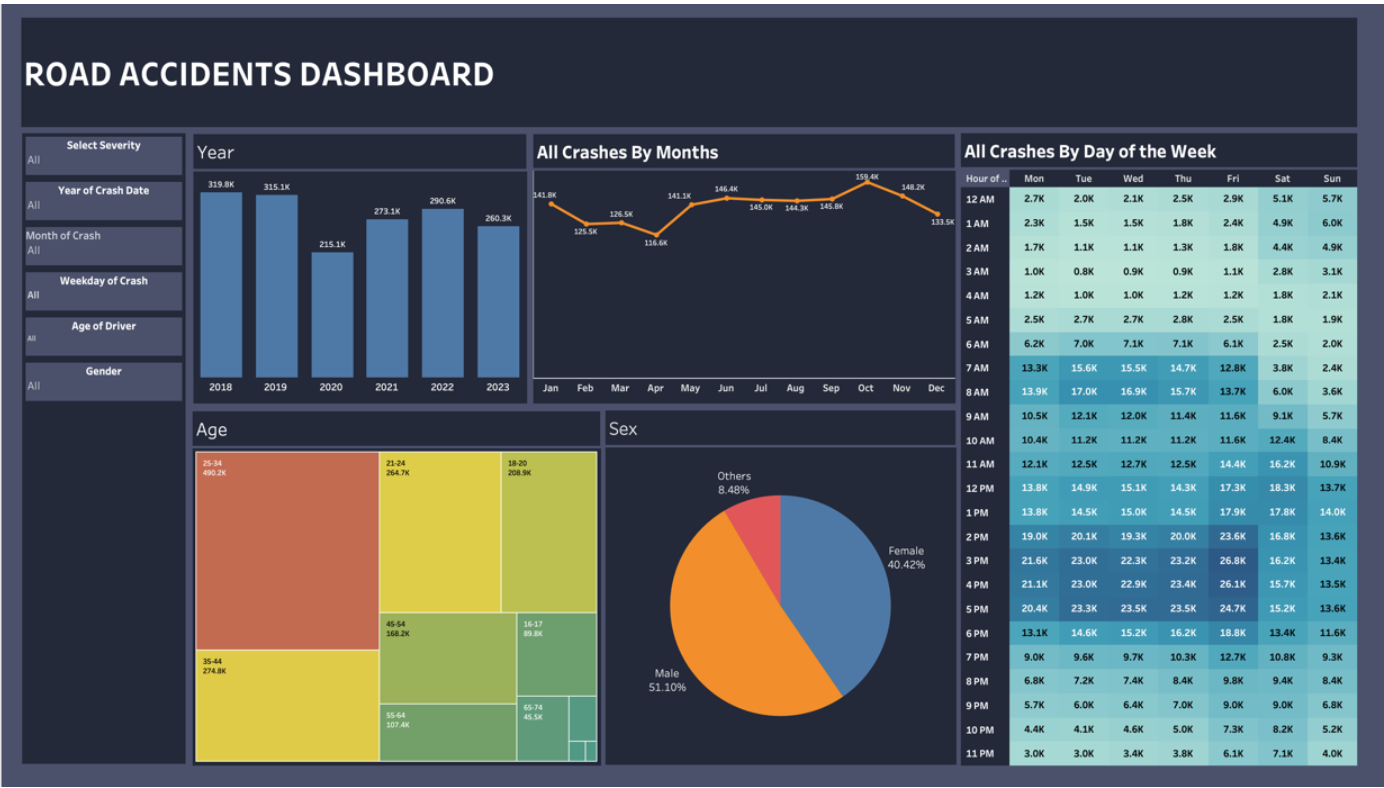

The page's visual inventory and layout, read from the dashboard file:
{"tool":"tableau","page":{"name":"Dashboard 2","canvas":[1600,900],"ordinal":1},"visuals":[{"type":"text","box":[30,15,1537,126]},{"type":"parameter","param":"[Parameters].[Parameter 2]","box":[31,148,188,56]},{"type":"worksheet","title":"Day","mark":"Square","rows":["Crash Time"],"cols":["Crash Date"],"box":[1111,148,456,728]},{"type":"worksheet","title":"Year","mark":"Bar","rows":["Calculation_2078129783879512064"],"cols":["Calculation_792915040177328128"],"box":[228,149,383,310]},{"type":"worksheet","title":"Month","mark":"Line","rows":["Calculation_2078129783879512064"],"cols":["Crash Date"],"box":[619,149,485,310]},{"type":"filter","title":"Month","param":"[federated.0sejc3v1lh04a01dlrg191ujw808].[Year of Crash Date Set]","box":[31,204,188,61]},{"type":"filter","title":"Year","param":"[federated.0sejc3v1lh04a01dlrg191ujw808].[mn:Crash Date:ok]","box":[31,265,188,61]},{"type":"filter","title":"Day","param":"[federated.0sejc3v1lh04a01dlrg191ujw808].[wd:Crash Date:ok]","box":[31,326,188,61]},{"type":"filter","title":"Age","param":"[federated.0sejc3v1lh04a01dlrg191ujw808].[Age of Driver - Youngest Known Set]","box":[31,387,188,61]},{"type":"filter","title":"Sex","param":"[federated.0sejc3v1lh04a01dlrg191ujw808].[Sex (group)]","box":[31,448,188,61]},{"type":"worksheet","title":"Sex","mark":"Pie","box":[702,467,403,407]},{"type":"worksheet","title":"Age","mark":"Automatic","box":[227,468,469,407]},{"type":"filter","title":"Year","param":"[federated.0sejc3v1lh04a01dlrg191ujw808].[none:City Town Name:nk]","box":[31,509,188,61]}]}

Visuals, with their boxes in screenshot pixels (x1, y1, x2, y2), scaled from the page's 1600x900 canvas onto the 1384x788 screenshot:
text: (x1=26, y1=13, x2=1355, y2=123)
parameter: (x1=27, y1=130, x2=189, y2=179)
"Day" worksheet (Square marks): (x1=961, y1=130, x2=1355, y2=767)
"Year" worksheet (Bar marks): (x1=197, y1=130, x2=529, y2=402)
"Month" worksheet (Line marks): (x1=535, y1=130, x2=955, y2=402)
"Month" filter: (x1=27, y1=179, x2=189, y2=232)
"Year" filter: (x1=27, y1=232, x2=189, y2=285)
"Day" filter: (x1=27, y1=285, x2=189, y2=339)
"Age" filter: (x1=27, y1=339, x2=189, y2=392)
"Sex" filter: (x1=27, y1=392, x2=189, y2=446)
"Sex" worksheet (Pie marks): (x1=607, y1=409, x2=956, y2=765)
"Age" worksheet: (x1=196, y1=410, x2=602, y2=766)
"Year" filter: (x1=27, y1=446, x2=189, y2=499)
